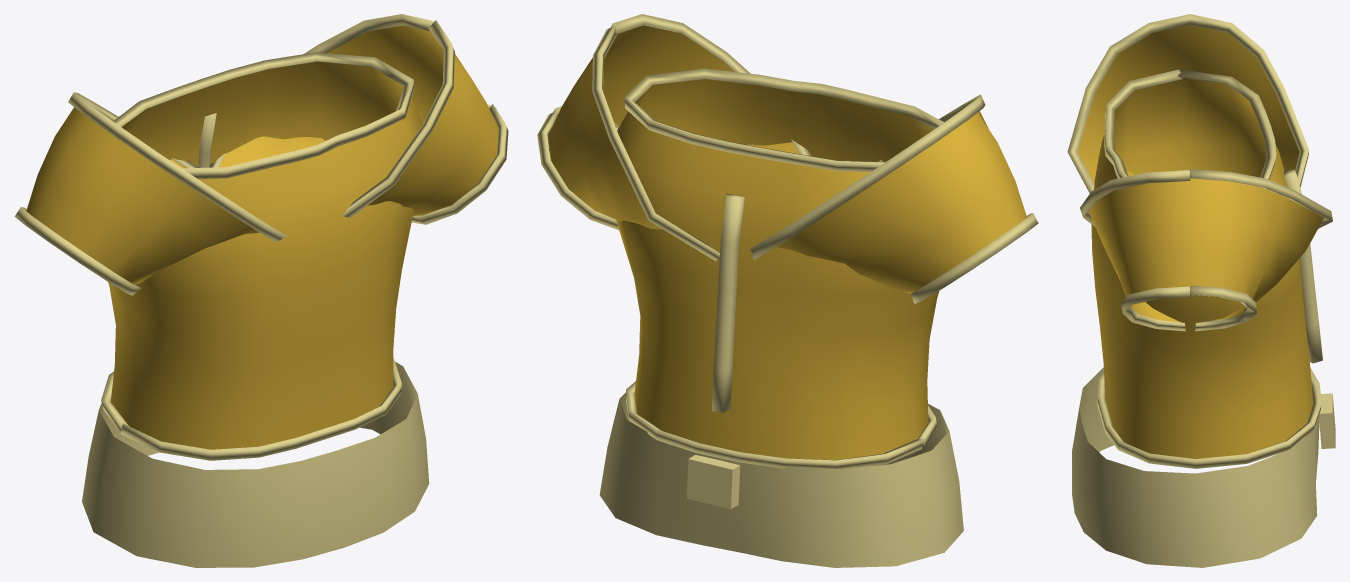
File: gold_chainmail.glb
3 views of the same model, side by side, from view 1: azimuth 30°, elevation 25°; view 2: azimuth 150°, elevation 25°; view 3: azimuth 270°, elevation 25° (orthographic). The views are drawn at different scales.
Parts seen in each view (by area): view 1: gold_chainmail_chest; view 2: gold_chainmail_chest; view 3: gold_chainmail_chest.
Part boxes in pixels (x1=…): gold_chainmail_chest: x1=14, y1=14, x2=508, y2=567; gold_chainmail_chest: x1=537, y1=14, x2=1038, y2=567; gold_chainmail_chest: x1=1067, y1=14, x2=1335, y2=567.
Size of the model in its own units: 0.6477 by 0.5848 by 0.3444.
